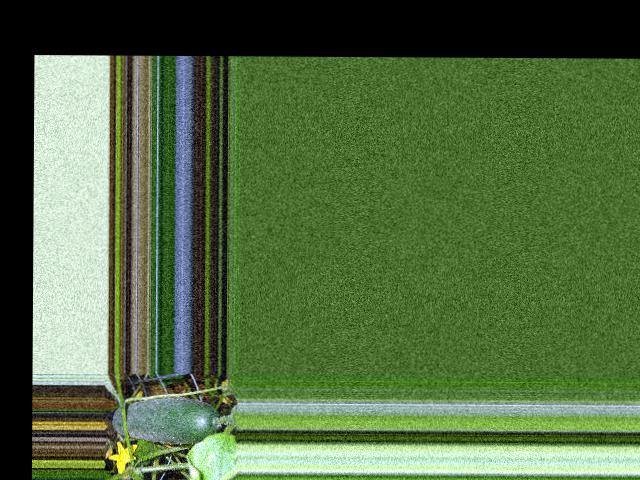cucumber: (113, 396, 222, 444)
